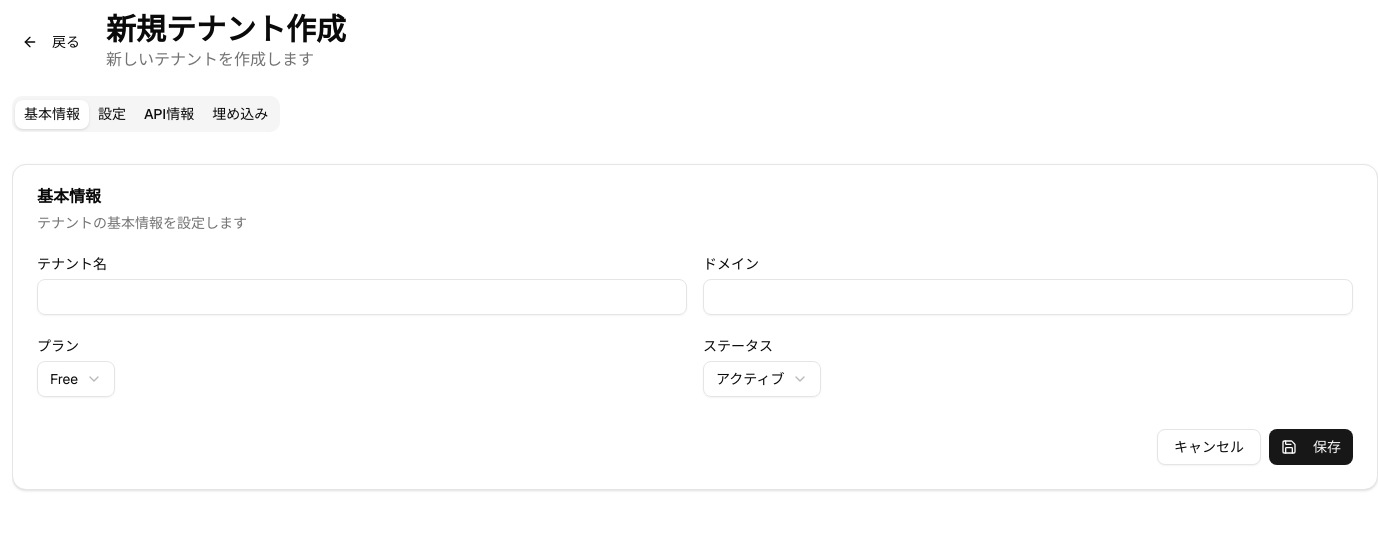
Test case: TenantForm › 作成モード › バリデーションエラー - テナント名が短すぎる
テナント名に1文字を入力
Step 1. Type "A" into the field labelled "テナント名" → [362, 297], box [37,279,687,315]
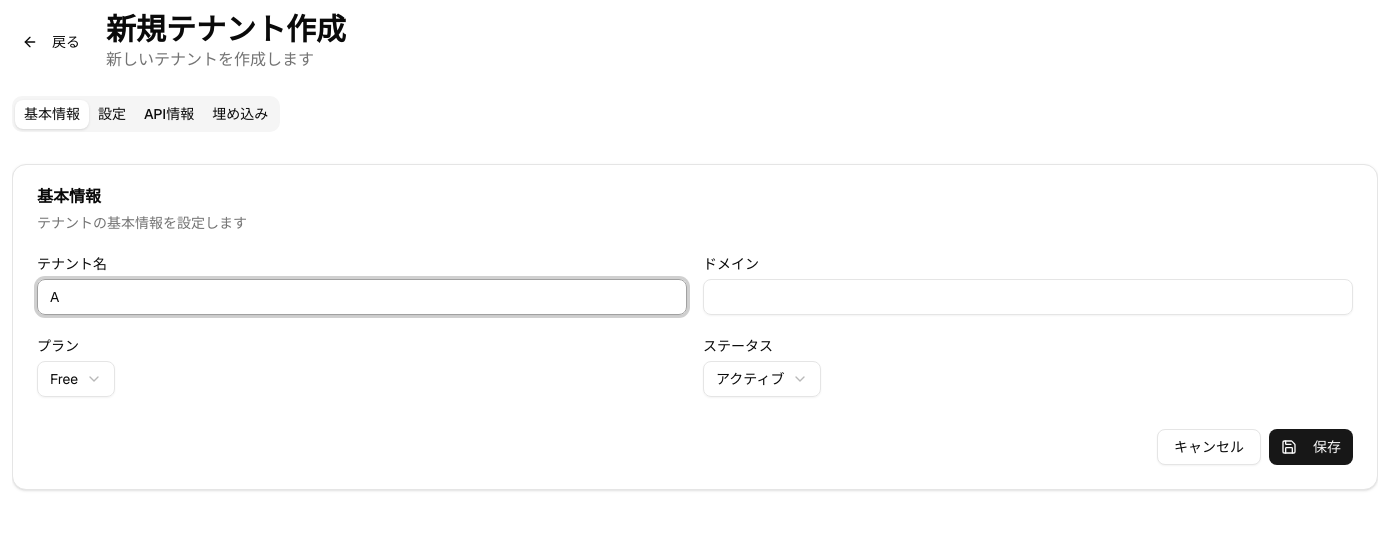
保存ボタンをクリック
Step 2. Click the button "保存" → [1311, 447], box [1269,429,1353,465]
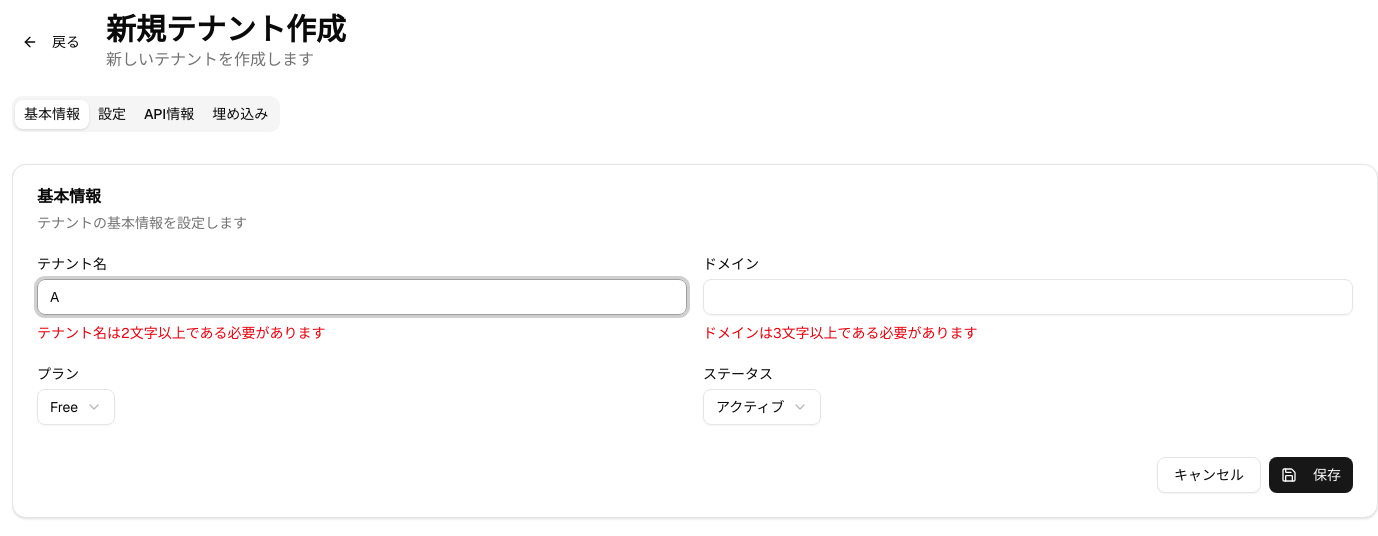
expect the text "テナント名は2文字以上である必要があります" is shown: met, box [37,324,326,342]
